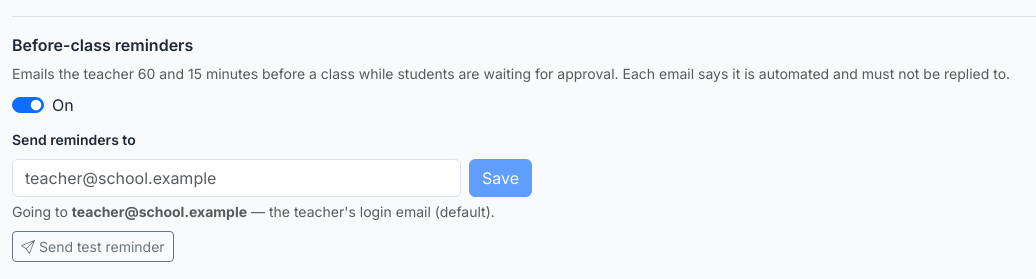
Scenario: before-class reminders card › switch off
The width and height of the screenshot is (1036, 279).
Click the switch at [28, 105], box [12,97,44,113]
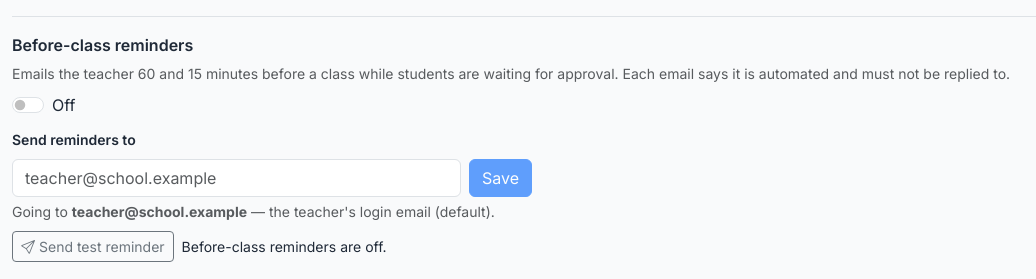
Now the switch is not checked, box [12,97,44,113]
Now the message reads "Before-class reminders are off.", box [182,238,387,255]
